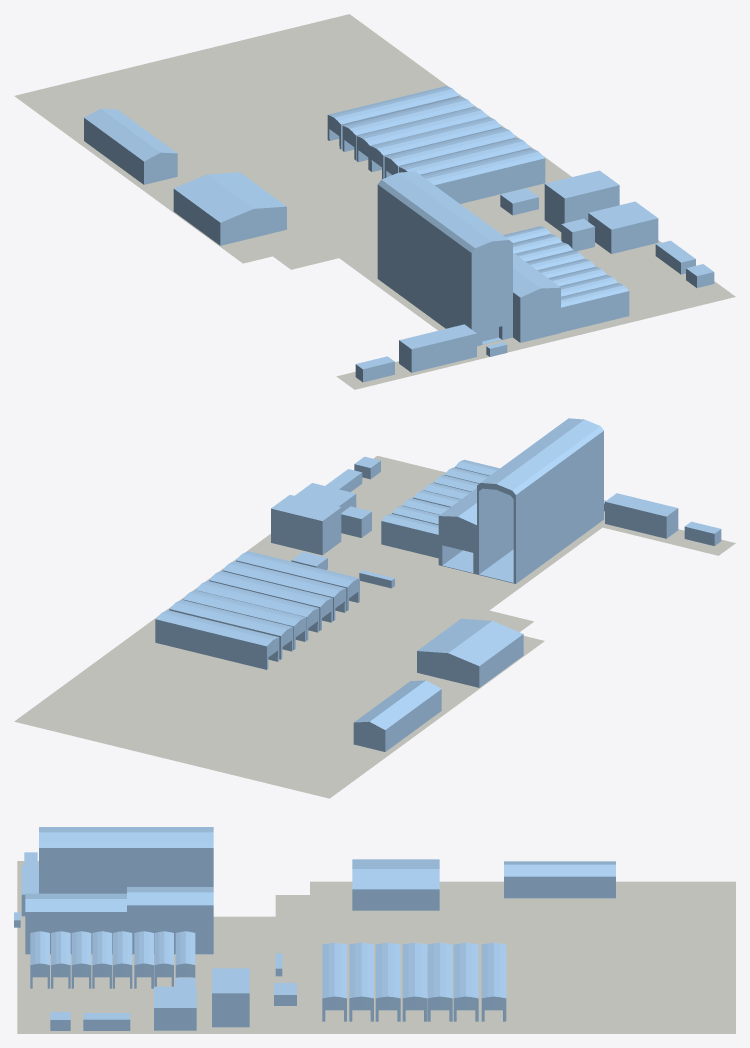
File: Huisman.Floor.Plan.gltf
The picture shows the model from 3 angles, top to bottom: view 1: azimuth 30°, elevation 25°; view 2: azimuth 150°, elevation 25°; view 3: azimuth 270°, elevation 25°; orthographic projection. The views are drawn at different scales.
Visible parts, largest first — view 1: Floor, B1A + worksjhops, Warehouse, Office-School-SLab, Workshop 21.006, Paintshop, Random B1A side, Office, Workshop 21.008, Workshop 21.007, Workshop 21.003, Workshop 21.005 (+8 smaller); view 2: Floor, B1A + worksjhops, Warehouse, Workshop 21.007, Office-School-SLab, Paintshop, Office, Workshop 21.005, Workshop 21.015, Workshop 21.006, Workshop 21.002, Workshop 21.001 (+5 smaller); view 3: Floor, B1A + worksjhops, Warehouse, Office-School-SLab, Paintshop, Random B1A side, Workshop 21.002, Workshop 21.004, Workshop 21.005, Workshop 21.007, Workshop 21.003, Workshop 21.001 (+13 smaller).
Part boxes in pixels (left/top/right/bottom): Floor: left=14, top=14, right=735, bottom=389; B1A + worksjhops: left=377, top=171, right=560, bottom=346; Warehouse: left=173, top=172, right=286, bottom=245; Office-School-SLab: left=84, top=108, right=177, bottom=184; Workshop 21.006: left=421, top=148, right=545, bottom=203; Paintshop: left=544, top=170, right=619, bottom=231; Random B1A side: left=588, top=201, right=658, bottom=253; Office: left=399, top=324, right=476, bottom=372; Workshop 21.008: left=561, top=283, right=629, bottom=332; Workshop 21.007: left=327, top=86, right=459, bottom=149; Workshop 21.003: left=370, top=117, right=501, bottom=179; Workshop 21.005: left=342, top=97, right=474, bottom=160; Floor: left=14, top=455, right=735, bottom=798; B1A + worksjhops: left=438, top=418, right=603, bottom=583; Warehouse: left=417, top=618, right=523, bottom=687; Workshop 21.007: left=155, top=610, right=279, bottom=669; Office-School-SLab: left=353, top=680, right=441, bottom=751; Paintshop: left=271, top=495, right=341, bottom=555; Office: left=605, top=493, right=678, bottom=538; Workshop 21.005: left=169, top=600, right=293, bottom=659; Workshop 21.015: left=381, top=513, right=438, bottom=558; Workshop 21.006: left=236, top=551, right=359, bottom=610; Workshop 21.002: left=209, top=571, right=332, bottom=630; Workshop 21.001: left=222, top=561, right=346, bottom=620; Floor: left=17, top=861, right=735, bottom=1033; B1A + worksjhops: left=25, top=827, right=213, bottom=954; Warehouse: left=352, top=859, right=439, bottom=910; Office-School-SLab: left=504, top=861, right=615, bottom=898; Paintshop: left=212, top=968, right=249, bottom=1027; Random B1A side: left=154, top=986, right=196, bottom=1030; Workshop 21.002: left=375, top=942, right=400, bottom=1021; Workshop 21.004: left=427, top=942, right=452, bottom=1021; Workshop 21.005: left=453, top=942, right=478, bottom=1021; Workshop 21.007: left=481, top=942, right=506, bottom=1021; Workshop 21.003: left=402, top=942, right=427, bottom=1021; Workshop 21.001: left=349, top=942, right=373, bottom=1021.
Bounding box in the file's own units: 66.63 × 17.3 × 117.
